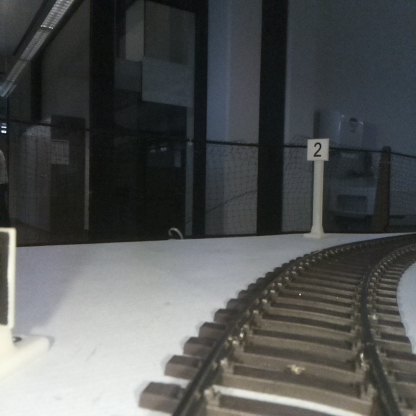white-info-2: (307, 139, 328, 236)
